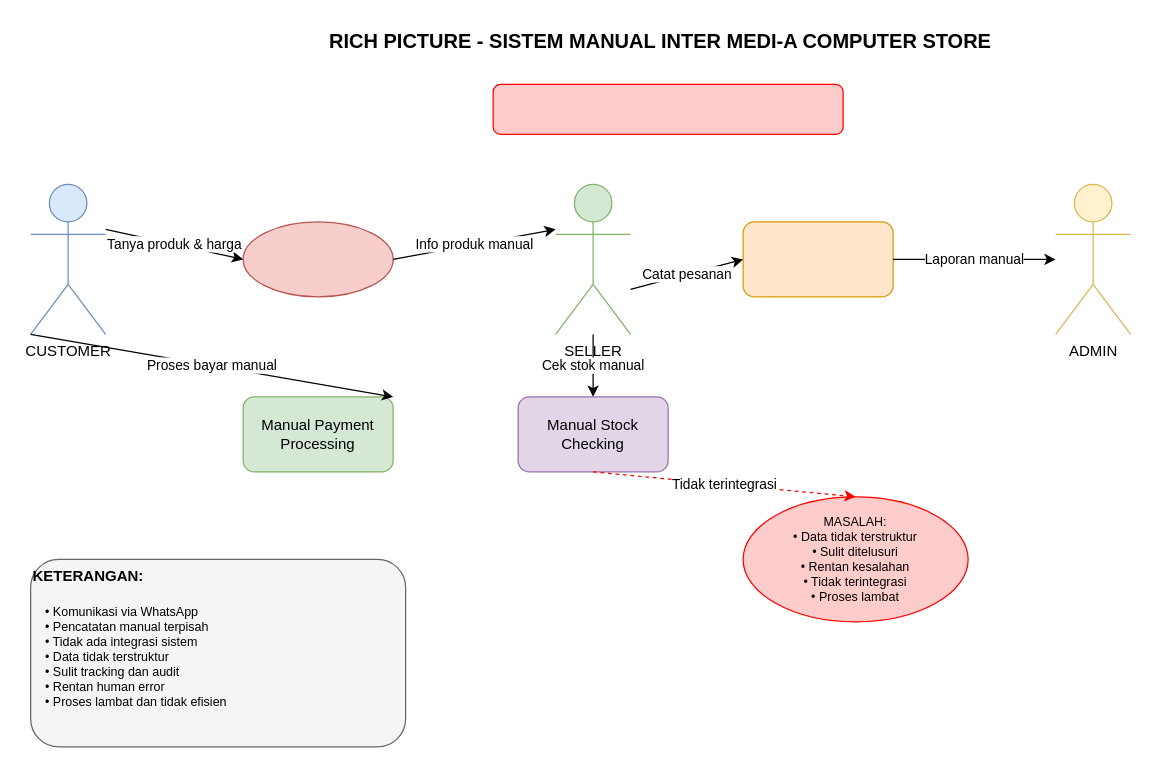
Image size: 1153x769. Some labels were removed from this diagram. Here are the shapes that lost their labels. From the top down, the centre of each, then its label:
(x=667, y=108): KONDISI SAAT INI: SISTEM MANUAL
(x=317, y=259): WhatsApp Communication
(x=817, y=259): Manual Order Recording
